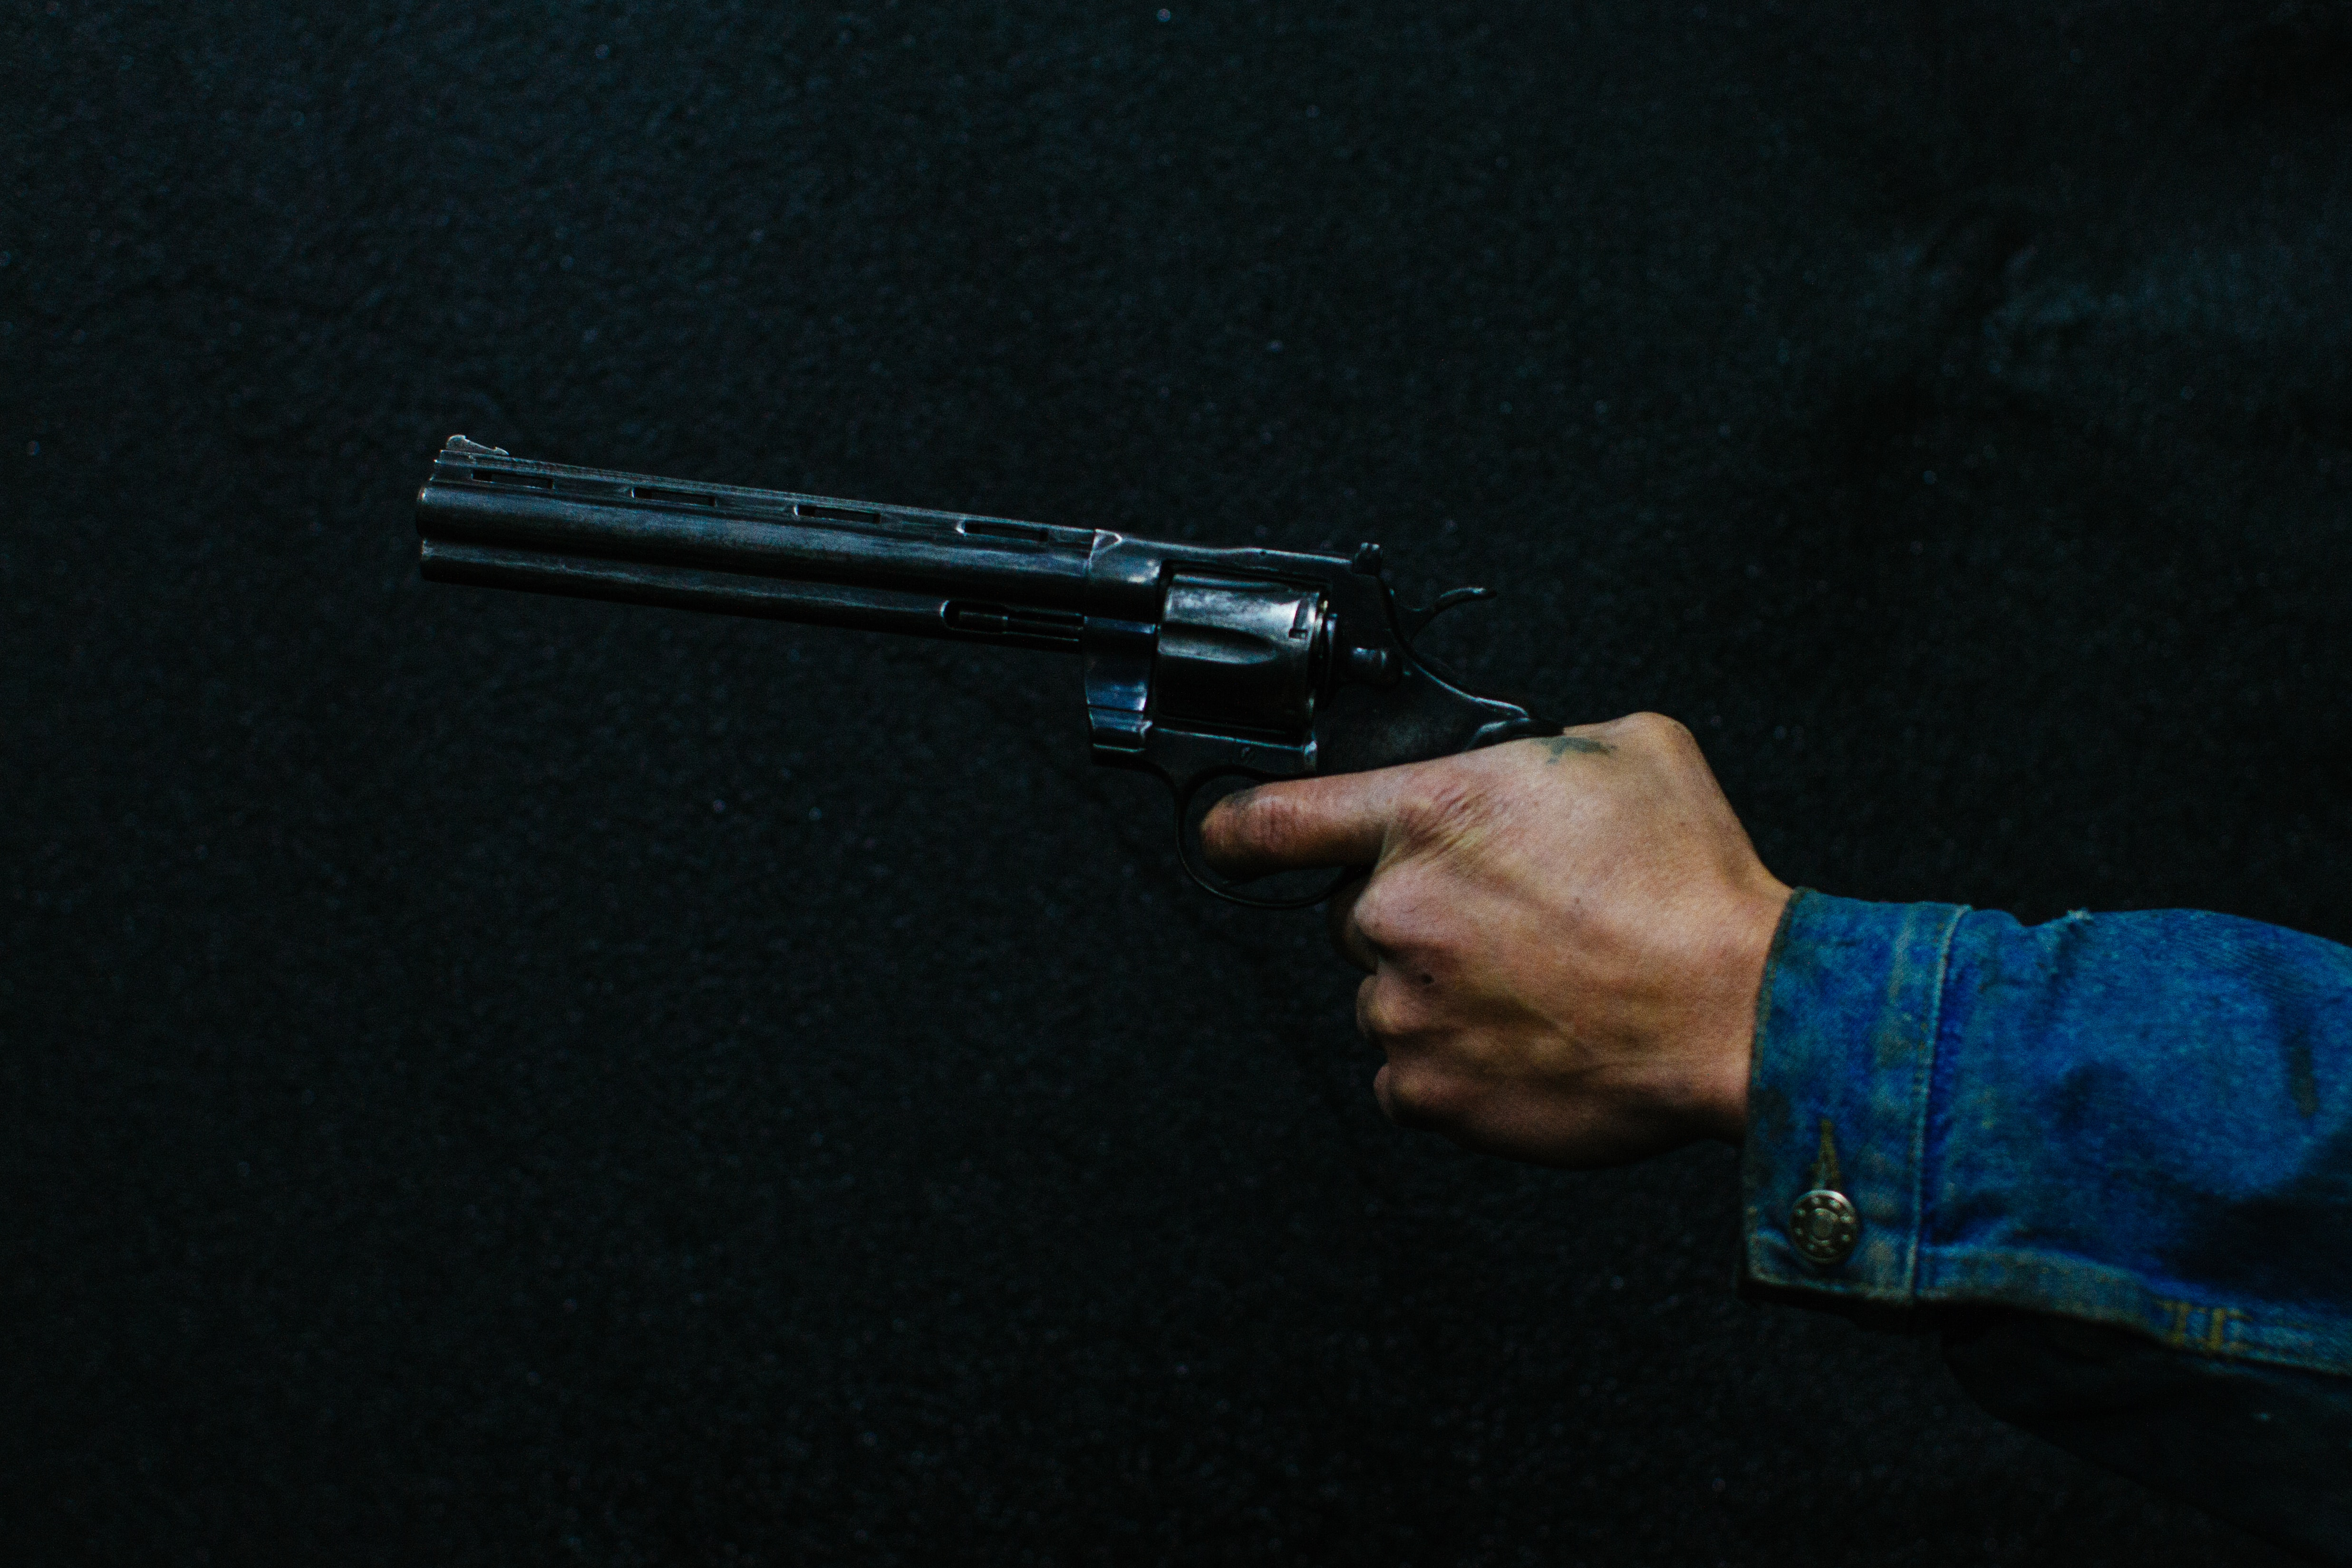gun: (401, 427, 1540, 794)
